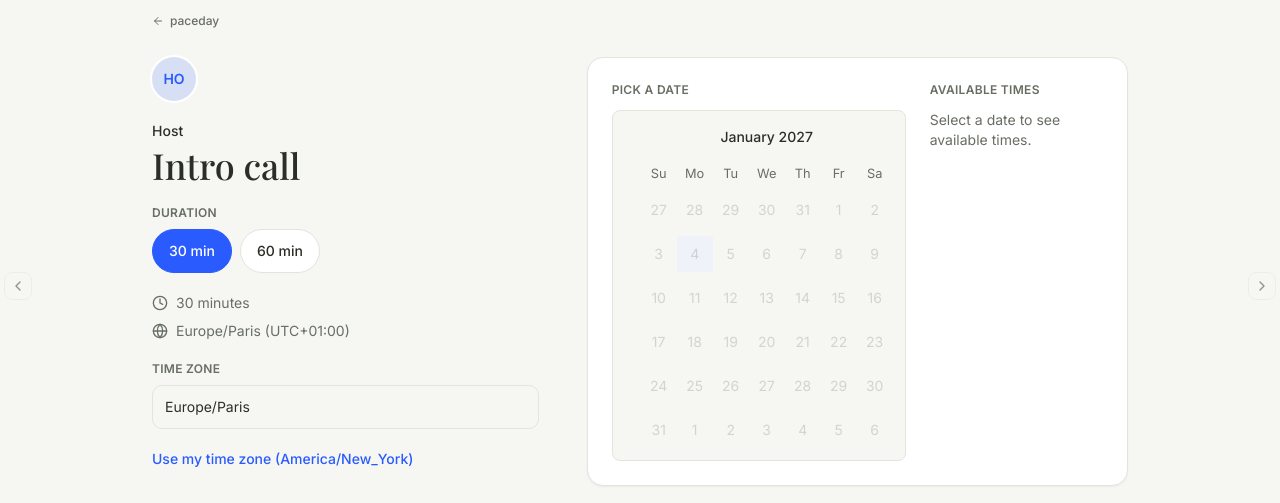
Test: PAC-88 switcher on the page › AC-7: 'Use my time zone' shows every time in the browser's zone and announces it; absent when the browser is in the link's zone
Later steps or results of the test are not shown.
Click the button with test id "booking-tz-use-mine". click: point(283, 459)
box: [152, 437, 413, 481]
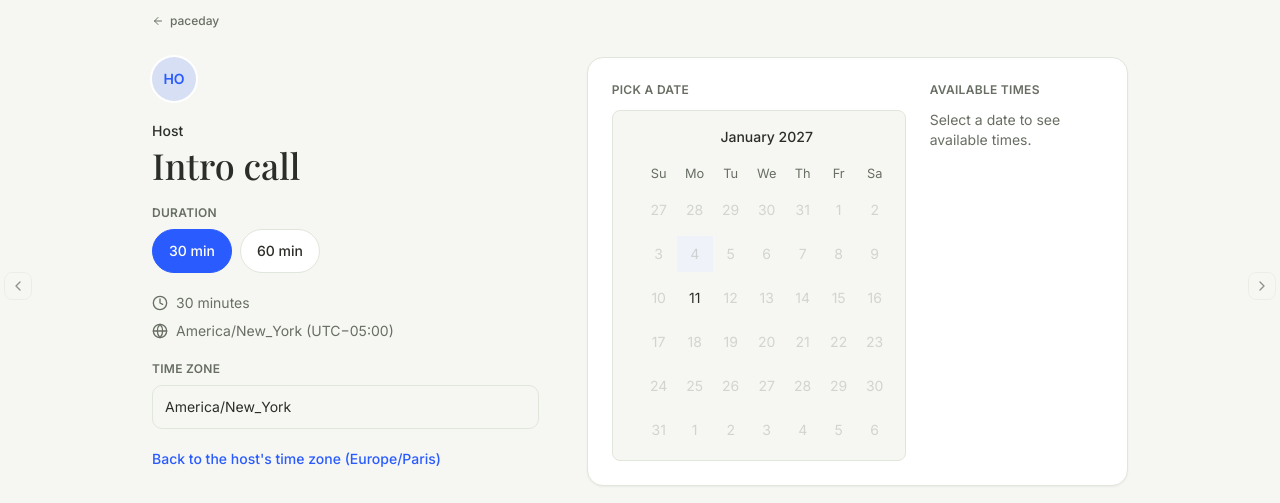
Expected: the text with test id "booking-tz-label" reads "America/New_York (UTC−05:00)", [176, 322, 394, 339]
Expected: the button with test id "booking-tz-use-mine" is gone
